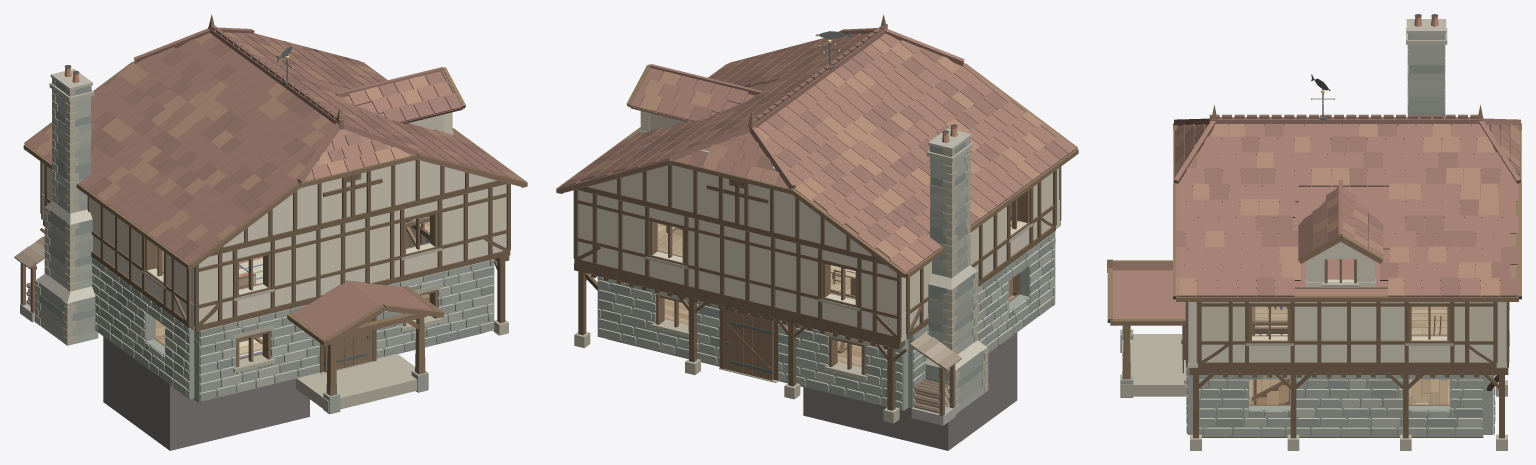
File: holm_guide_house_overhaul_v5.glb
3 renders of one model, left to right at view 1: azimuth 30°, elevation 25°; view 2: azimuth 150°, elevation 25°; view 3: azimuth 270°, elevation 25°, orthographic. The views are drawn at different scales.
Parts seen in each view (by area): view 1: Roof, GroundShell, UpperShell, CellarShell, UpperFurnishingWalls, Gable, UpperHearth, DoorSouthLeaf, UpperFurnishing; view 2: Roof, GroundShell, UpperShell, UpperFurnishingWalls, Gable, CellarShell, UpperHearth, DoorNorthLeaf, GroundFloor, UpperFloor; view 3: Roof, GroundShell, UpperShell, UpperFurnishingWalls, UpperFloor, GroundFloor, StairFlight.
Part boxes in pixels (bbox=[...]): Roof: bbox=[23, 14, 527, 345]; GroundShell: bbox=[14, 220, 509, 414]; UpperShell: bbox=[40, 135, 510, 331]; CellarShell: bbox=[103, 336, 309, 450]; UpperFurnishingWalls: bbox=[48, 167, 500, 322]; Gable: bbox=[220, 145, 496, 248]; UpperHearth: bbox=[44, 177, 92, 260]; DoorSouthLeaf: bbox=[323, 319, 372, 372]; UpperFurnishing: bbox=[239, 215, 429, 288]; Roof: bbox=[556, 14, 1078, 278]; GroundShell: bbox=[574, 231, 1055, 425]; UpperShell: bbox=[573, 134, 1061, 342]; UpperFurnishingWalls: bbox=[584, 170, 1056, 333]; Gable: bbox=[589, 150, 874, 257]; CellarShell: bbox=[803, 332, 1017, 450]; UpperHearth: bbox=[928, 241, 978, 327]; DoorNorthLeaf: bbox=[723, 309, 774, 380]; GroundFloor: bbox=[607, 295, 1014, 411]; UpperFloor: bbox=[657, 220, 1011, 298]; Roof: bbox=[1107, 14, 1521, 325]; GroundShell: bbox=[1120, 325, 1508, 450]; UpperShell: bbox=[1185, 287, 1509, 368]; UpperFurnishingWalls: bbox=[1196, 302, 1497, 362]; UpperFloor: bbox=[1255, 306, 1447, 335]; GroundFloor: bbox=[1202, 379, 1483, 437]; StairFlight: bbox=[1252, 379, 1289, 404].
Size of the model in its own units: 14.77 by 13.36 by 14.03.
